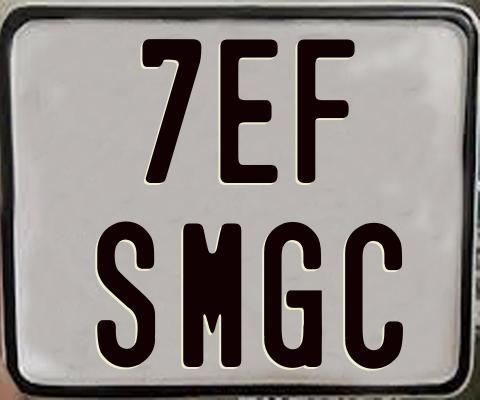7: (142, 38, 205, 185)
C: (342, 223, 400, 372)
E: (219, 39, 283, 186)
F: (296, 39, 358, 188)
G: (264, 221, 325, 370)
M: (180, 221, 244, 366)
S: (97, 220, 159, 369)
